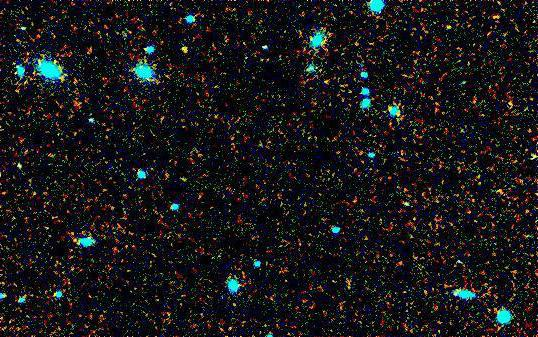star: (170, 35, 200, 65)
